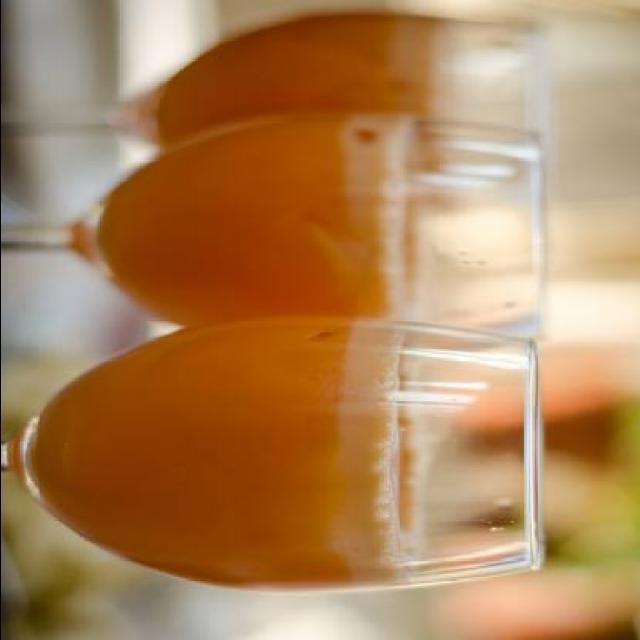Juice: (24, 314, 428, 596), (60, 110, 428, 327), (137, 15, 435, 157)
